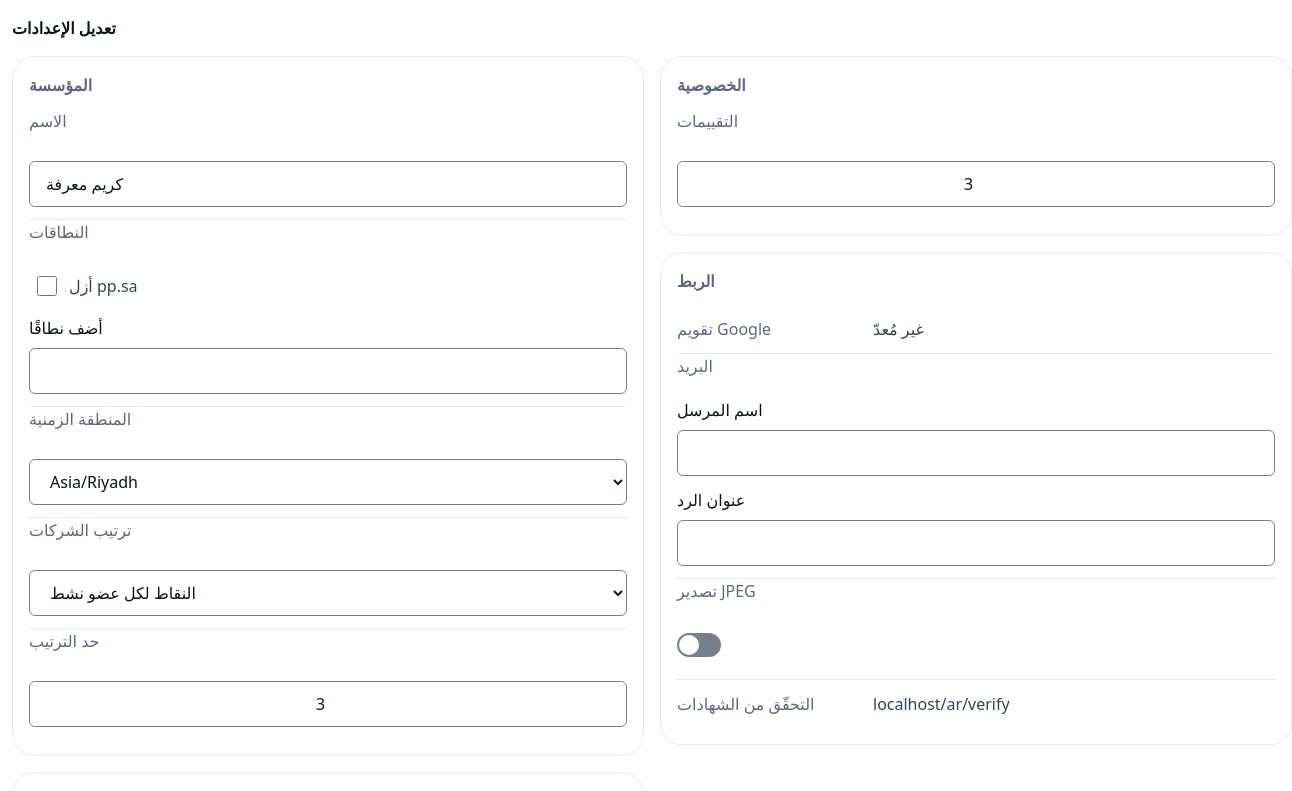
Test: SettingsEdit › «حُفظ» only from a receipt that wrote something; then back to read mode
The width and height of the screenshot is (1292, 791).
Select "Asia/Dubai" in the dropdown named "المنطقة الزمنية" below "المنطقة الزمنية" at (328, 482), box [29,459,627,505]
(page scrolled)
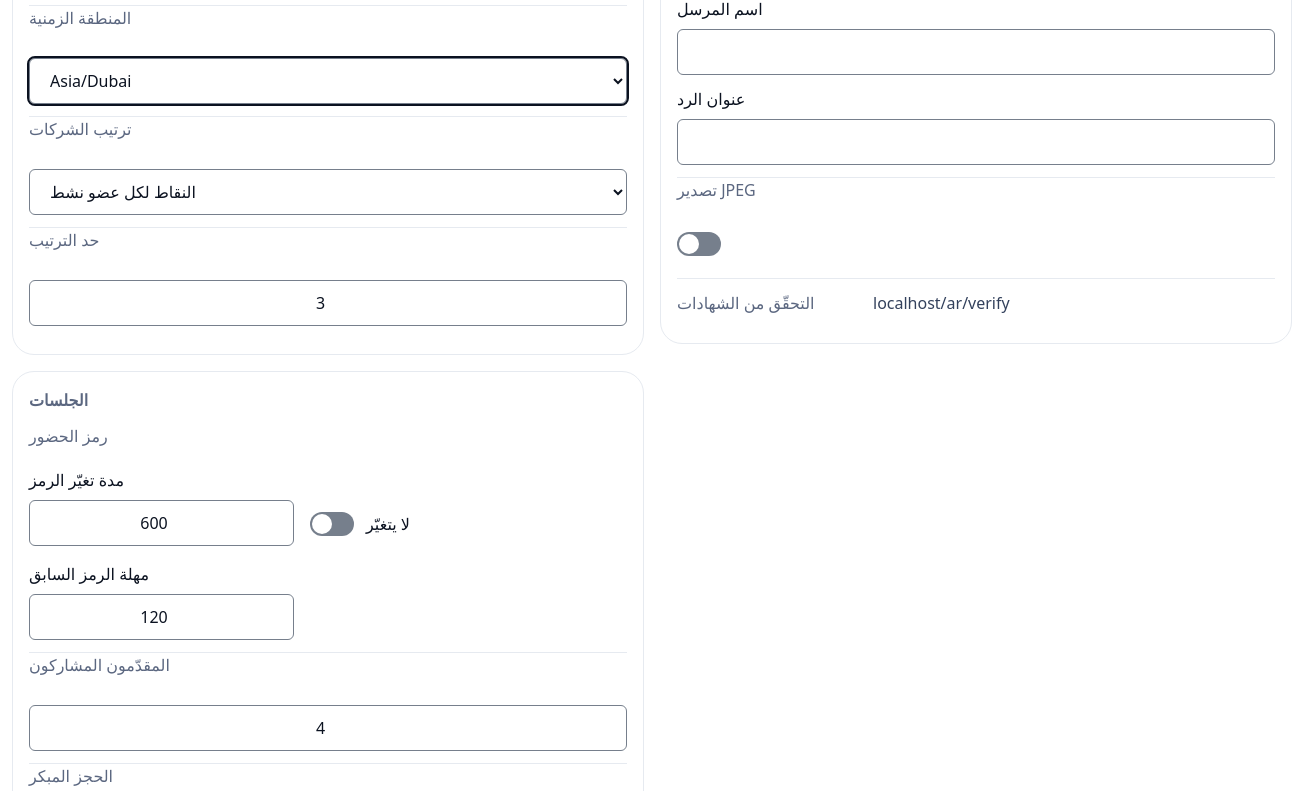
Submit the form named "احفظ"
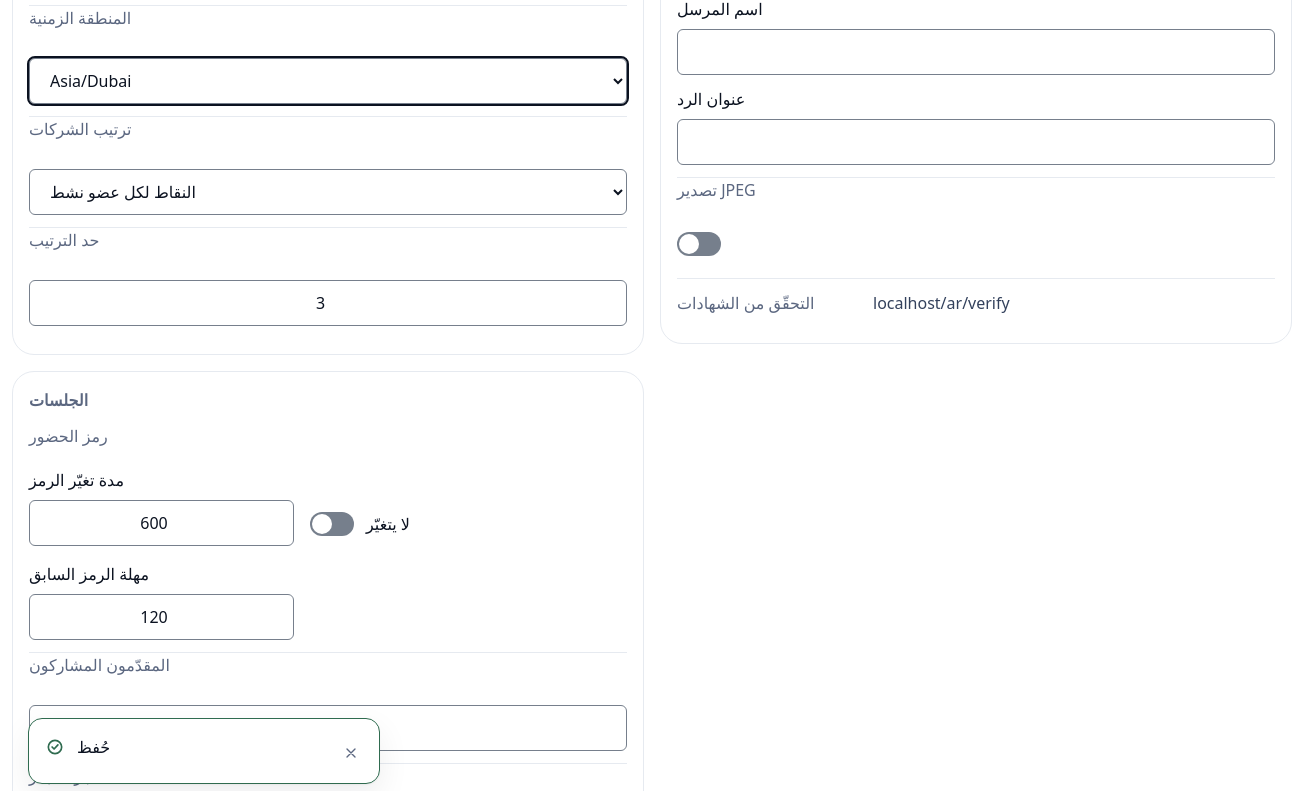
expect the text "حُفظ" is shown: met, box [77,736,110,758]
